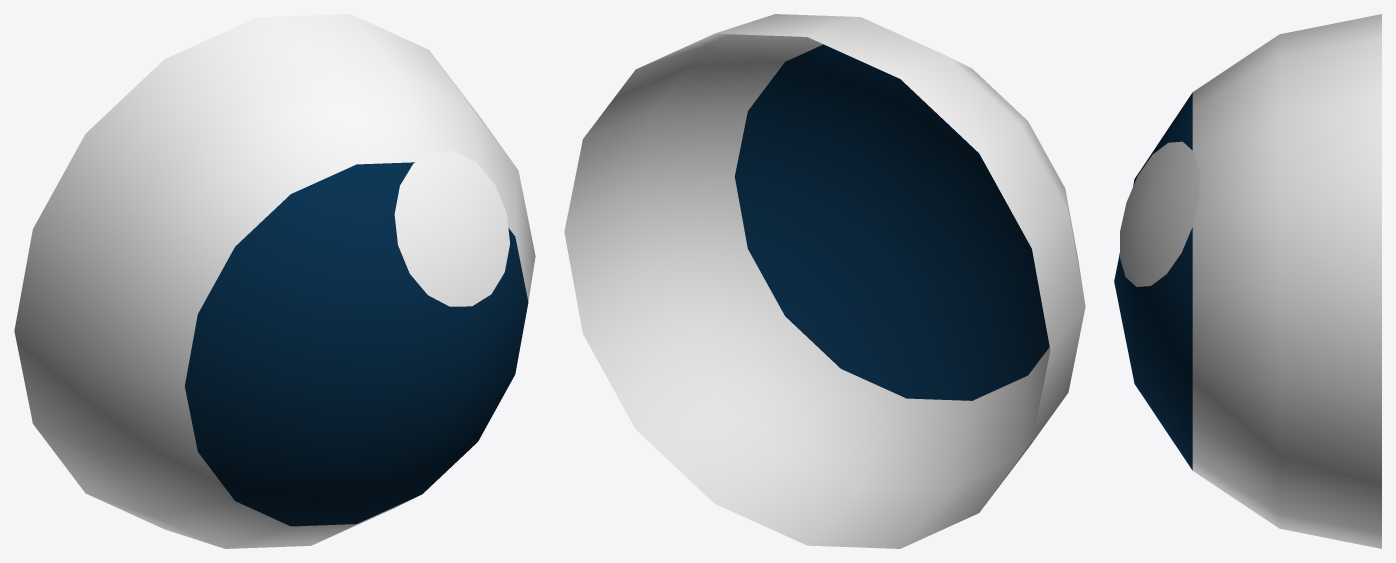
The model's file is Eyes_One_Eyed_01.fbx.
3 renders of one model, left to right at view 1: azimuth 30°, elevation 25°; view 2: azimuth 150°, elevation 25°; view 3: azimuth 270°, elevation 25°, orthographic. The views are drawn at different scales.
Parts seen in each view (by area): view 1: Eyes_One_Eyed_01; view 2: Eyes_One_Eyed_01; view 3: Eyes_One_Eyed_01.
Boxes of the visible parts, left/top/right/bottom form: Eyes_One_Eyed_01: left=14, top=14, right=535, bottom=548; Eyes_One_Eyed_01: left=564, top=14, right=1085, bottom=548; Eyes_One_Eyed_01: left=1114, top=14, right=1381, bottom=548.
Bounding box in the file's own units: 58.54 × 58.54 × 29.27.
